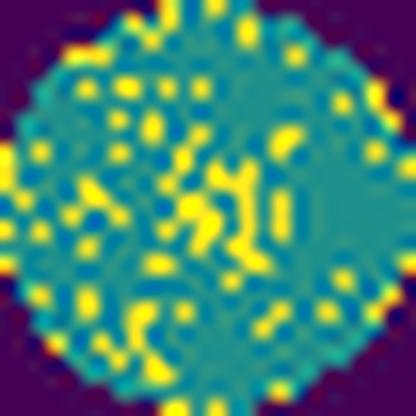Center: (150, 122, 281, 283)
